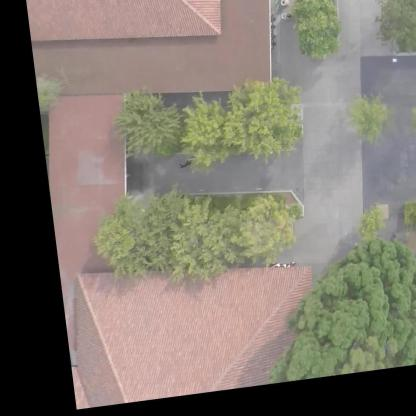Bicyclist: (174, 147, 198, 175)
